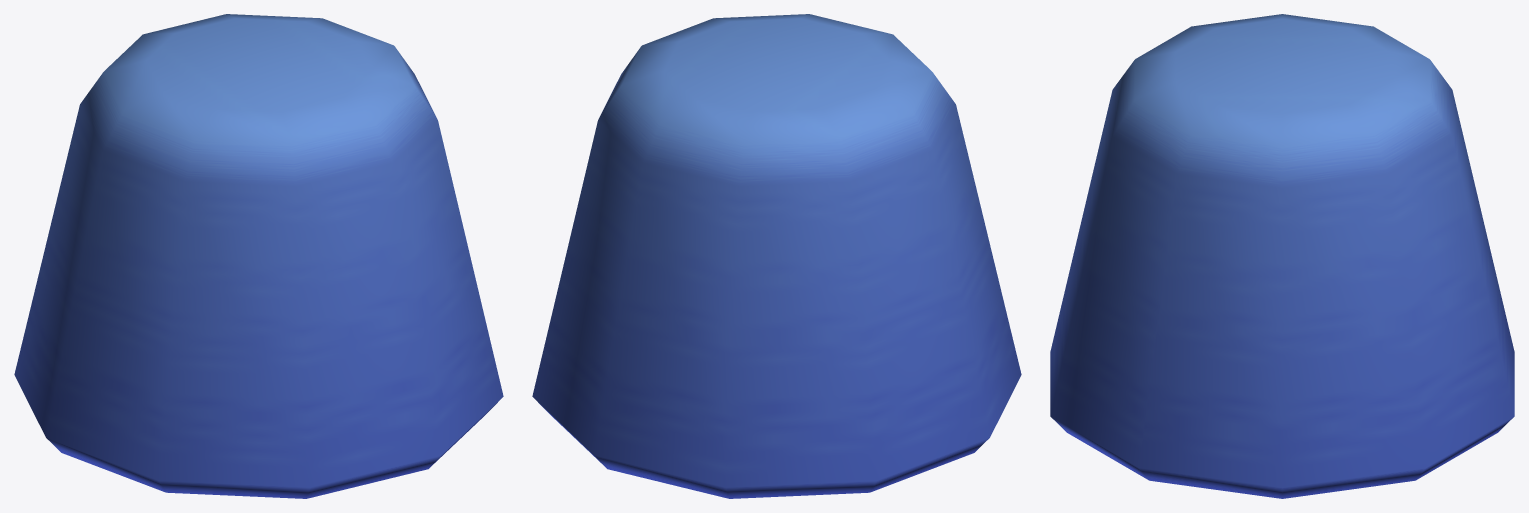
File: SM_GUMDROP_BLUE.fbx
The picture shows the model from 3 angles, left to right: view 1: azimuth 30°, elevation 25°; view 2: azimuth 150°, elevation 25°; view 3: azimuth 270°, elevation 25°; orthographic projection.
Parts seen in each view (by area): view 1: GUMDROP_BLUE; view 2: GUMDROP_BLUE; view 3: GUMDROP_BLUE.
Part boxes in pixels (x1,y1,x2,y2): GUMDROP_BLUE: [14, 14, 503, 498]; GUMDROP_BLUE: [532, 14, 1021, 498]; GUMDROP_BLUE: [1050, 14, 1514, 498].
Bounding box in the file's own units: 51.97 × 39.55 × 49.43.
1 material, 1 textured.
